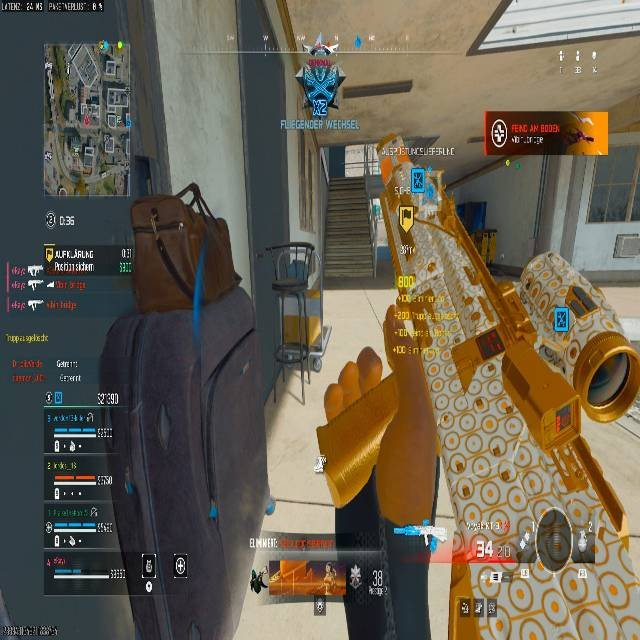head: (515, 250, 638, 408)
player: (294, 43, 345, 113)
